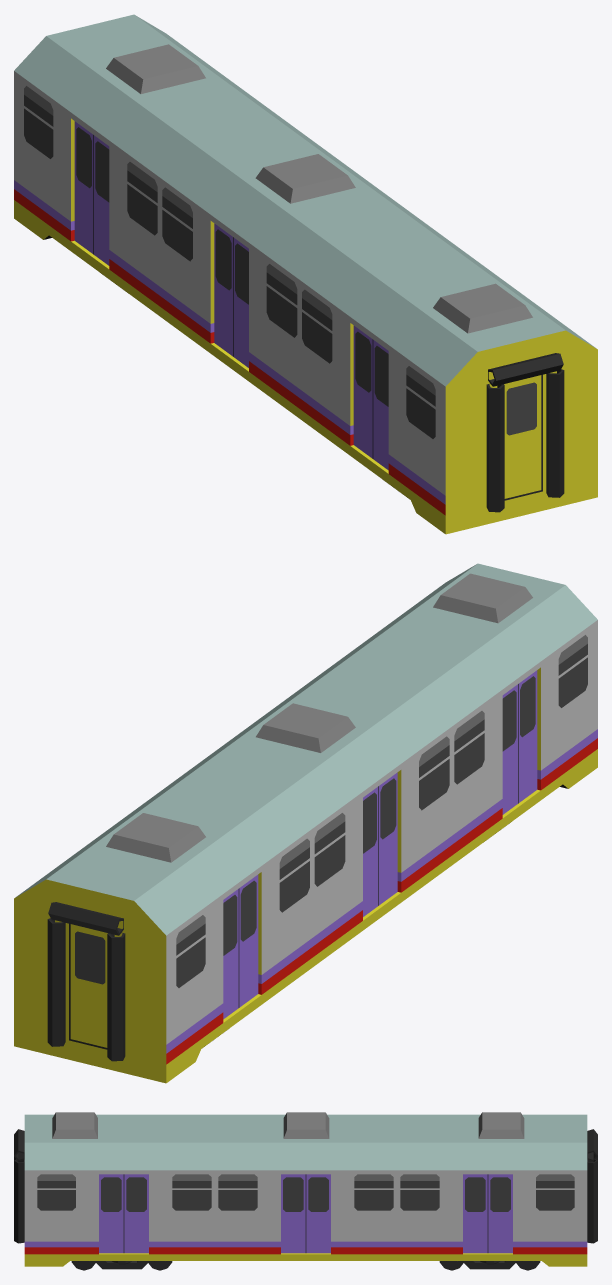
Rendered from carriage.fbx.
3 views of the same model, one above another, from view 1: azimuth 30°, elevation 25°; view 2: azimuth 150°, elevation 25°; view 3: azimuth 270°, elevation 25° (orthographic). The views are drawn at different scales.
Parts seen in each view (by area): view 1: Baraya Yellow 2; view 2: Baraya Yellow 2; view 3: Baraya Yellow 2.
Boxes of the visible parts, box(x1,y1,x2,y2) form: Baraya Yellow 2: box(14, 14, 597, 534); Baraya Yellow 2: box(14, 563, 597, 1083); Baraya Yellow 2: box(14, 1112, 597, 1270).
Bounding box in the file's own units: 271 × 362 × 1380.
